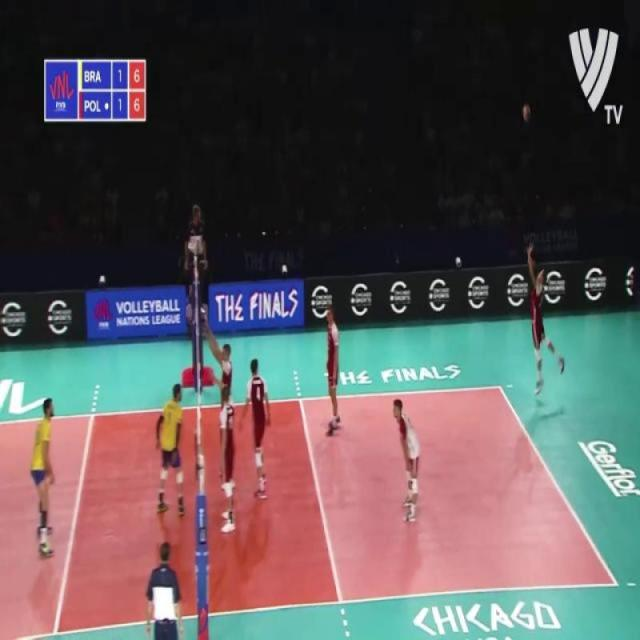volleyball: (524, 106, 532, 122)
